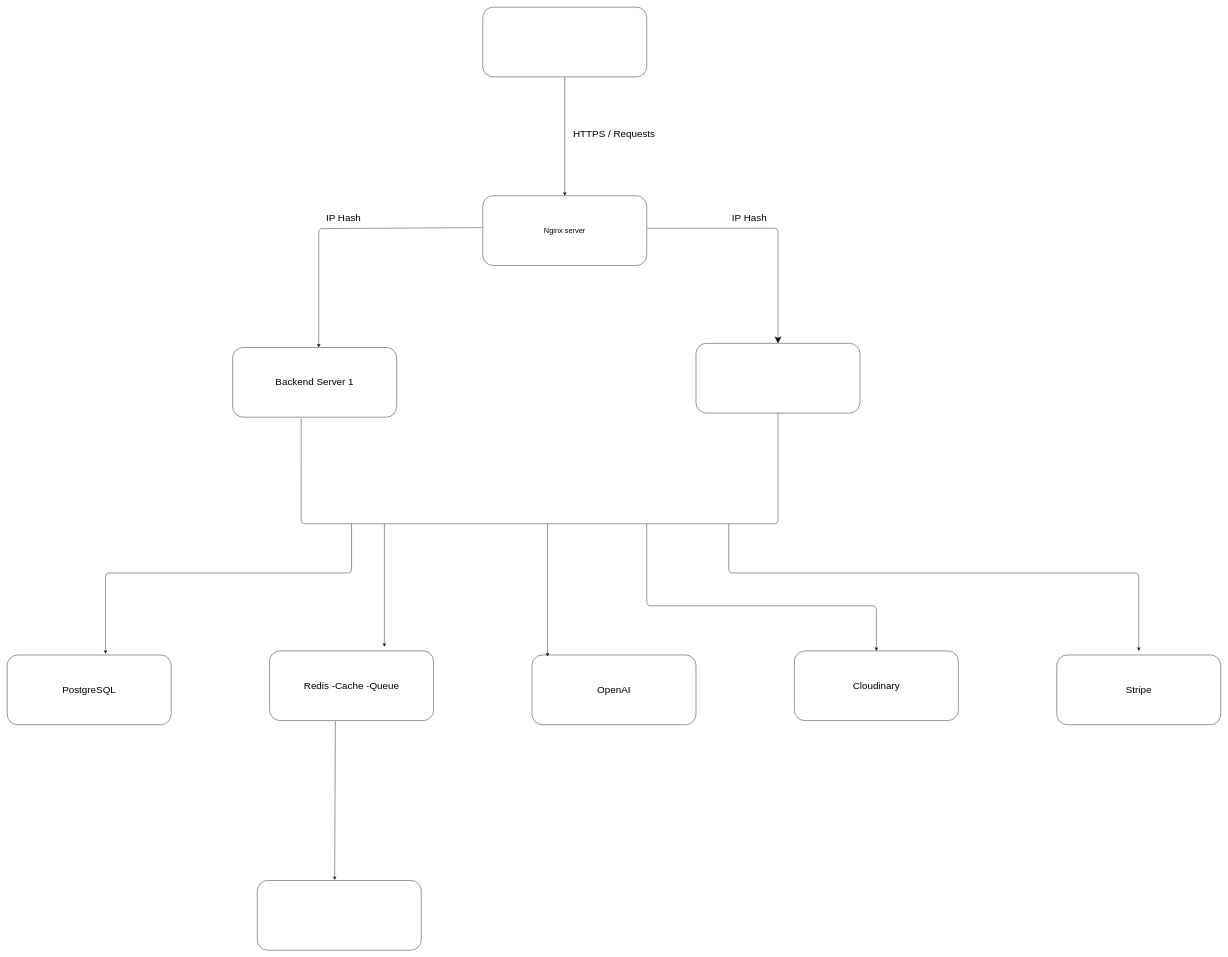
This 1228x957 diagram has some shape labels left out. Each missing label, with the centre of its shape:
Backend Server 2: (778,378)
Celery Worker: (339,915)
Clients / Users: (564,42)
